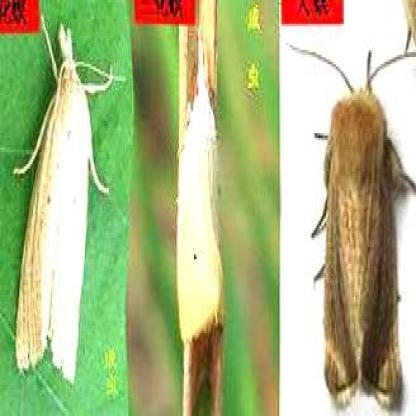stem-borer: (289, 32, 416, 411), (10, 19, 127, 388), (177, 29, 225, 348)
